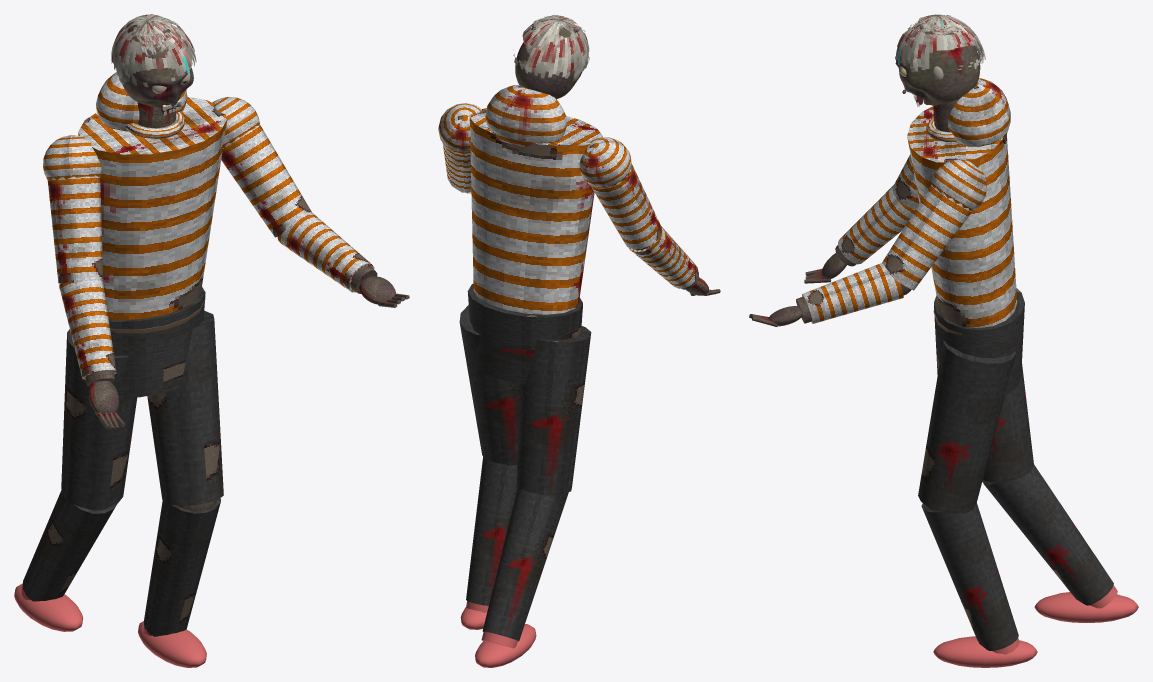
Rendered from Zombie_091.glb.
The picture shows the model from 3 angles, left to right: view 1: azimuth 30°, elevation 25°; view 2: azimuth 150°, elevation 25°; view 3: azimuth 270°, elevation 25°; orthographic projection. The views are drawn at different scales.
Visible parts, largest first — view 1: Zombie_091, object 4, object 12, object 44, object 18, object 5, object 13; view 2: Zombie_091, object 44, object 4, object 18; view 3: Zombie_091, object 12, object 18, object 4, object 44.
Boxes of the visible parts, x1,y1,x2,y2 form: Zombie_091: [14, 72, 311, 667]; object 4: [59, 280, 116, 379]; object 12: [277, 212, 374, 292]; object 44: [111, 14, 196, 84]; object 18: [122, 28, 193, 108]; object 5: [89, 381, 118, 414]; object 13: [359, 276, 395, 304]; Zombie_091: [438, 85, 661, 667]; object 44: [513, 15, 589, 76]; object 4: [628, 226, 698, 288]; object 18: [515, 27, 582, 99]; Zombie_091: [882, 78, 1138, 667]; object 12: [802, 263, 903, 323]; object 18: [895, 26, 980, 106]; object 4: [838, 185, 914, 264]; object 44: [895, 14, 985, 68].
Bounding box in the file's own units: 0.7957 × 1.84 × 1.04.
Materials: 16 (6 with a texture image).
